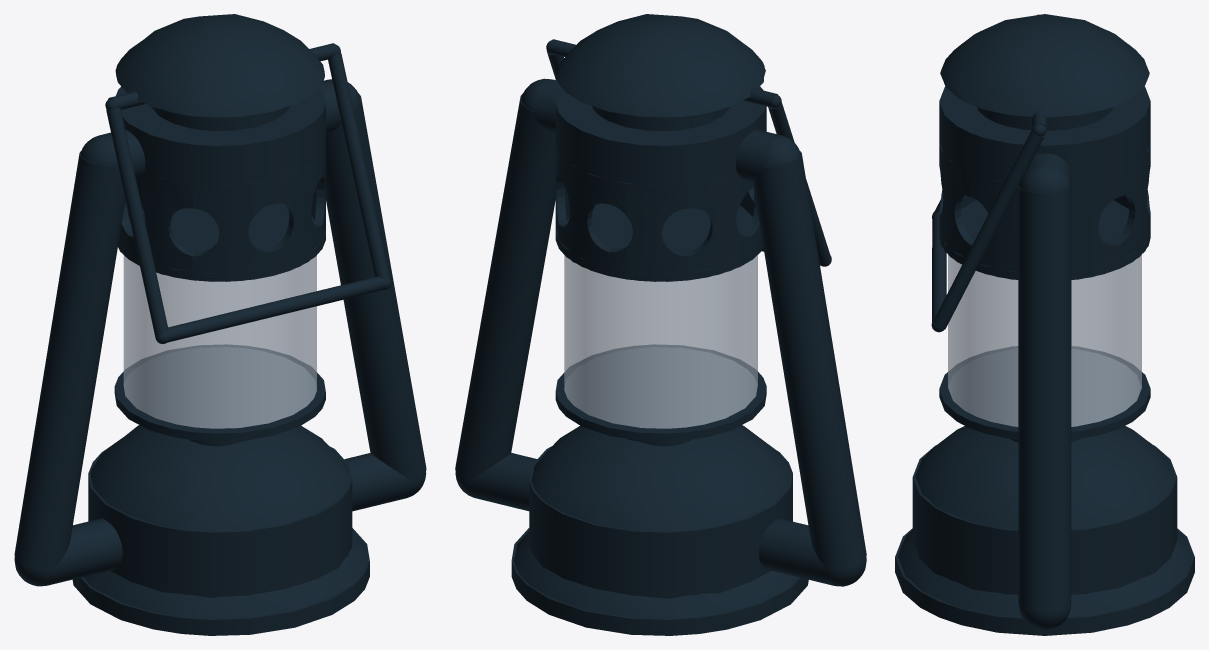
File: lantern.glb
The picture shows the model from 3 angles, left to right: view 1: azimuth 30°, elevation 25°; view 2: azimuth 150°, elevation 25°; view 3: azimuth 270°, elevation 25°; orthographic projection.
Parts seen in each view (by area): view 1: ltern; view 2: ltern; view 3: ltern.
Boxes of the visible parts, <box> form: ltern: <box>14,14,426,635</box>; ltern: <box>455,14,866,635</box>; ltern: <box>895,14,1194,635</box>.
Bounding box in the file's own units: 1.12 × 1.45 × 0.7173.
